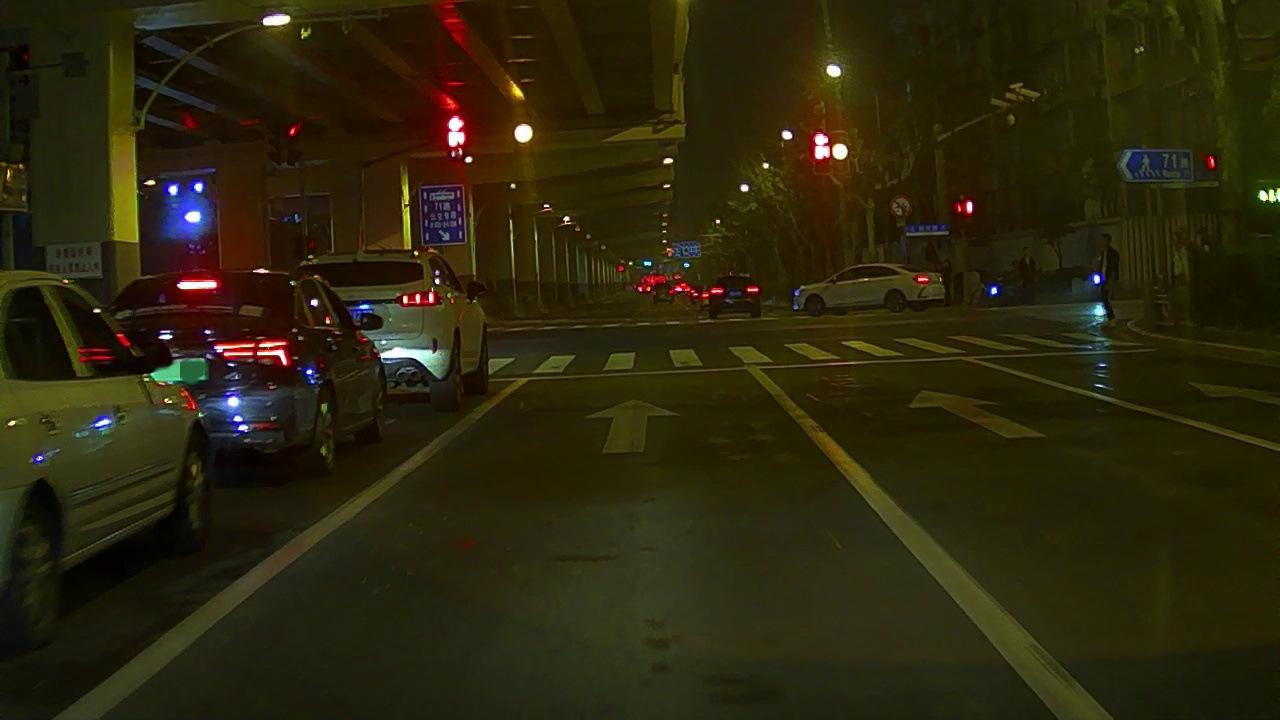traffic_light: (832, 132, 848, 173), (446, 113, 464, 148), (816, 132, 830, 169), (516, 124, 533, 142)
